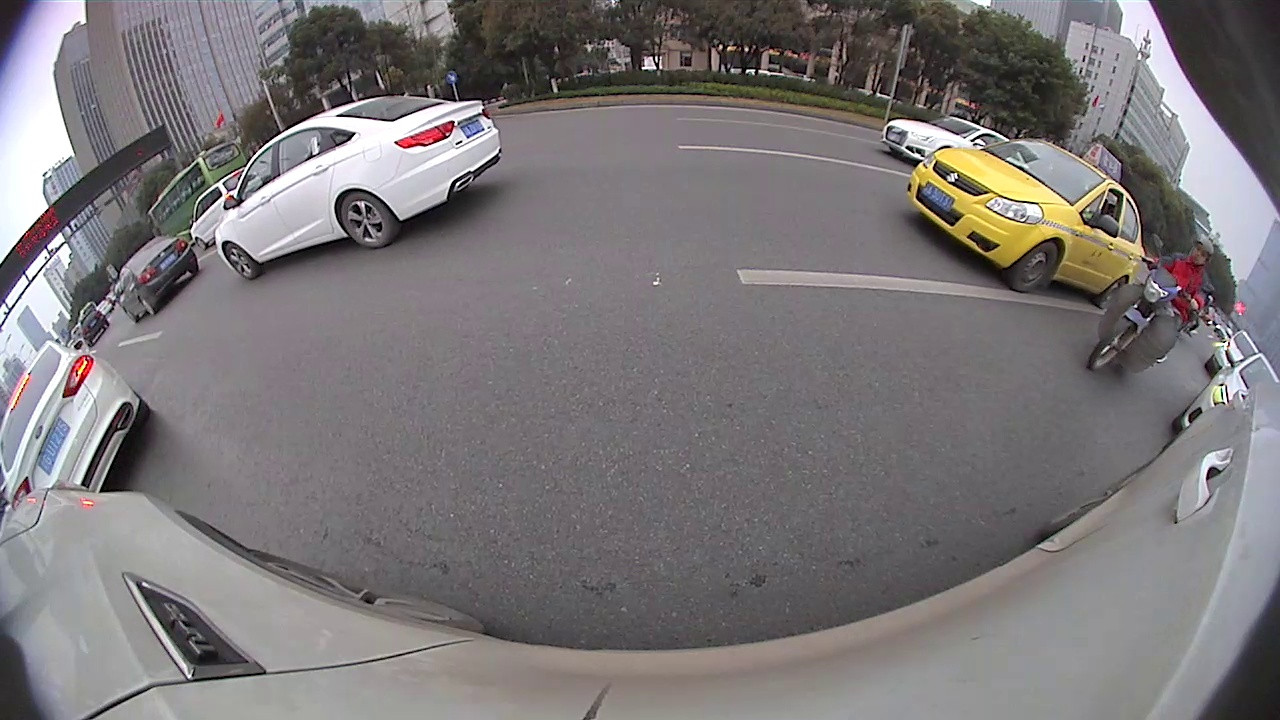bus: (146, 144, 251, 233)
car: (218, 98, 503, 279), (908, 141, 1143, 306), (3, 342, 151, 499), (113, 235, 197, 323), (1183, 354, 1279, 426), (878, 118, 1015, 163), (194, 169, 253, 248), (1207, 331, 1259, 373)
front: (1006, 241, 1061, 293), (221, 239, 258, 280)
rear: (340, 193, 395, 250), (1087, 317, 1143, 372), (1095, 275, 1130, 312), (136, 295, 157, 318)
rider: (1085, 236, 1214, 376)
